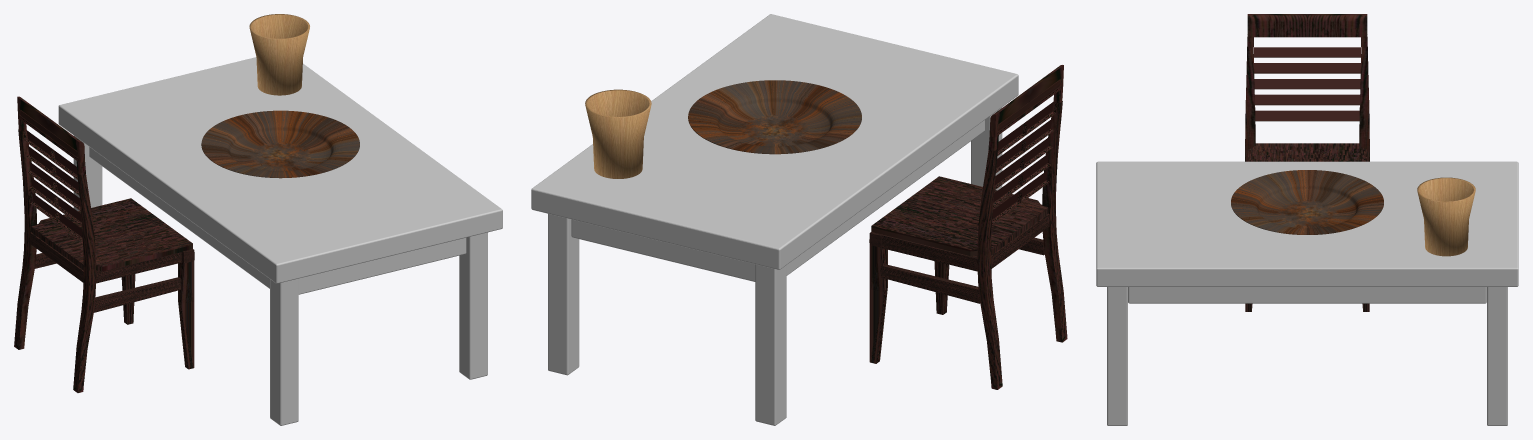
Rendered from Habitacion.fbx.
The picture shows the model from 3 angles, left to right: view 1: azimuth 30°, elevation 25°; view 2: azimuth 150°, elevation 25°; view 3: azimuth 270°, elevation 25°; orthographic projection. The views are drawn at different scales.
Visible parts, largest first — view 1: Cube.005, Circle, Cubo.001, Plano, Cylinder, Cubo.005, Cubo, Cubo.003, Cubo.002, Cubo.004; view 2: Cube.005, Circle, Cubo.001, Plano, Cylinder, Cubo.005, Cubo, Cubo.003, Cubo.002, Cubo.004; view 3: Cube.005, Circle, Cubo.005, Cubo.001, Cylinder, Plano.
Part boxes in pixels (<box>): Cube.005: <box>58,57,502,425</box>; Circle: <box>201,110,359,178</box>; Cubo.001: <box>14,96,96,392</box>; Plano: <box>31,198,192,271</box>; Cylinder: <box>249,14,309,95</box>; Cubo.005: <box>23,130,82,241</box>; Cubo: <box>121,249,194,369</box>; Cubo.003: <box>35,253,181,312</box>; Cubo.002: <box>96,252,181,283</box>; Cubo.004: <box>30,232,83,282</box>; Cube.005: <box>531,14,1018,425</box>; Circle: <box>688,80,861,154</box>; Cubo.001: <box>977,65,1067,389</box>; Plano: <box>871,176,1048,255</box>; Cylinder: <box>585,89,651,178</box>; Cubo.005: <box>992,101,1057,223</box>; Cubo: <box>869,232,949,363</box>; Cubo.003: <box>880,237,1044,303</box>; Cubo.002: <box>881,235,977,271</box>; Cubo.004: <box>991,213,1049,268</box>; Cube.005: <box>1096,161,1518,425</box>; Circle: <box>1231,170,1383,234</box>; Cubo.005: <box>1254,47,1360,121</box>; Cubo.001: <box>1245,14,1369,161</box>; Cylinder: <box>1417,177,1475,256</box>; Plano: <box>1248,143,1366,161</box>.
Size of the model in its own units: 368 by 265 by 400.
